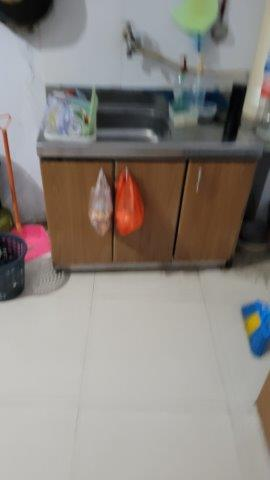plastik: (119, 170, 146, 241), (89, 169, 112, 234)
